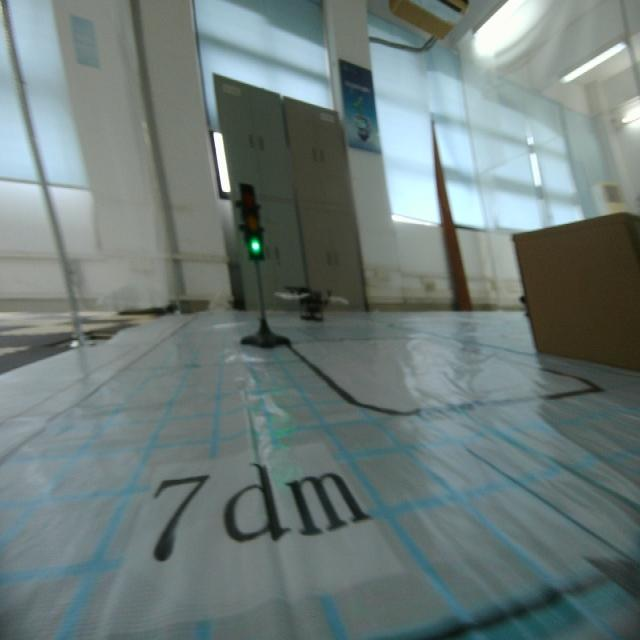green: (237, 176, 267, 265)
